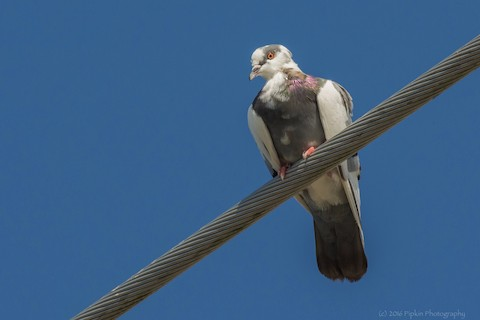pigeon: (243, 41, 382, 286)
